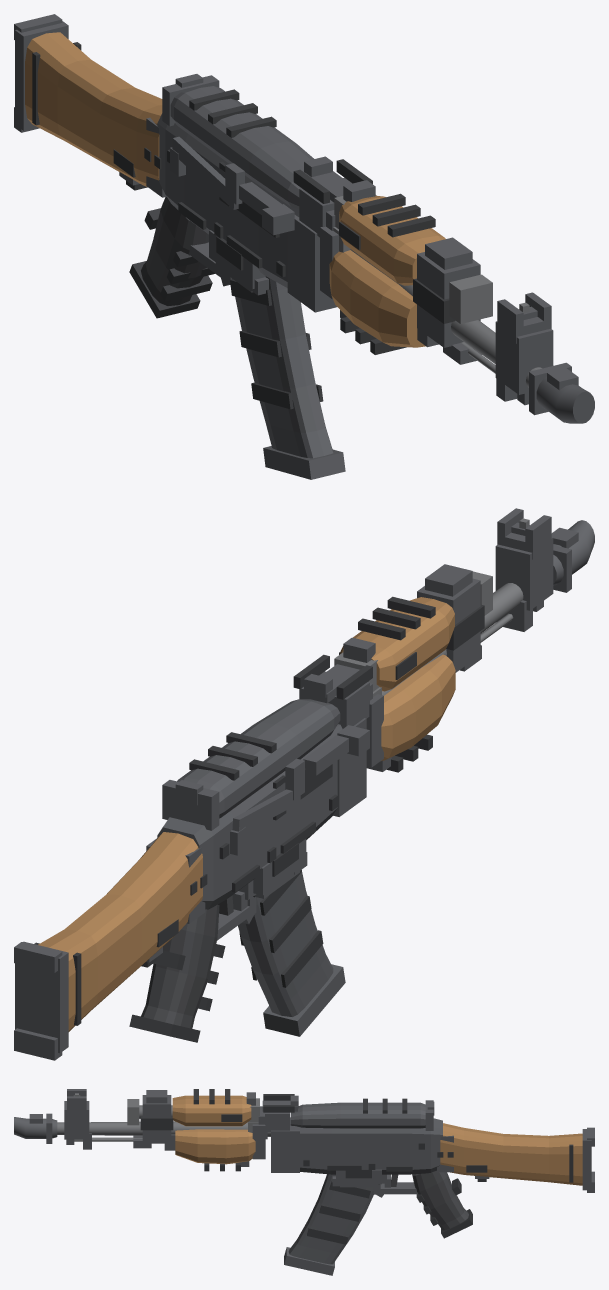
Rendered from weapon_ak47.fbx.
3 views of the same model, one above another, from view 1: azimuth 30°, elevation 25°; view 2: azimuth 150°, elevation 25°; view 3: azimuth 270°, elevation 25° (orthographic). The views are drawn at different scales.
Parts seen in each view (by area): view 1: AK47; view 2: AK47; view 3: AK47.
Part boxes in pixels (box(x1,y1,x2,y2)): AK47: box(14, 14, 594, 479); AK47: box(14, 508, 594, 1060); AK47: box(14, 1089, 594, 1275).
Bounding box in the file's own units: 7.55 × 29.92 × 88.6.
